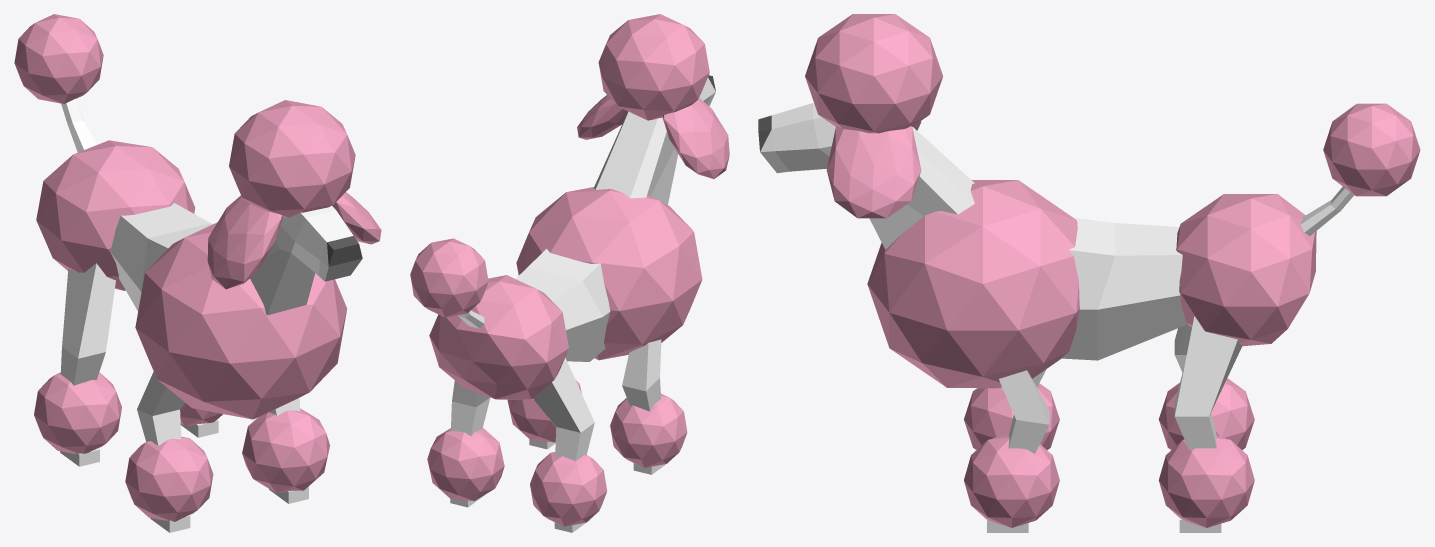
The model's file is Poodle.glb.
3 renders of one model, left to right at view 1: azimuth 30°, elevation 25°; view 2: azimuth 150°, elevation 25°; view 3: azimuth 270°, elevation 25°, orthographic. The views are drawn at different scales.
Visible parts, largest first — view 1: Poodle_01_Cube.031; view 2: Poodle_01_Cube.031; view 3: Poodle_01_Cube.031.
Part boxes in pixels (x1,y1,x2,y2): Poodle_01_Cube.031: (14, 14, 381, 532); Poodle_01_Cube.031: (410, 14, 729, 532); Poodle_01_Cube.031: (758, 14, 1420, 532).
Bounding box in the file's own units: 10.18 × 22.87 × 28.64.
